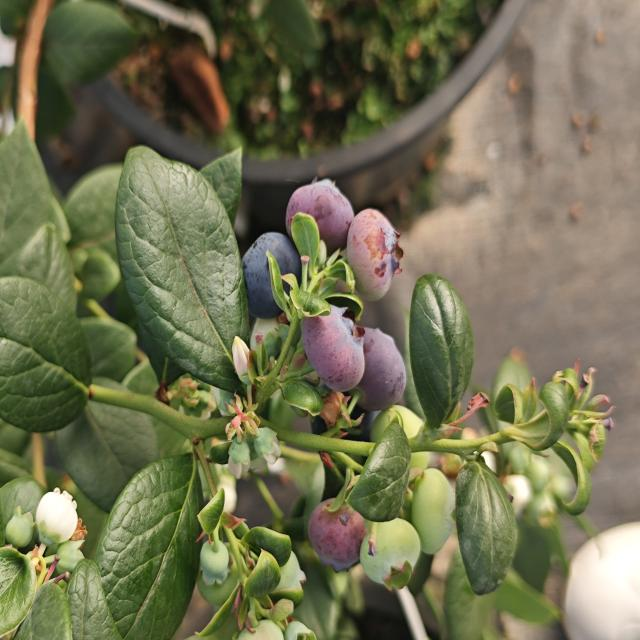ripe: (283, 178, 355, 260), (240, 230, 302, 322), (351, 325, 408, 414)
